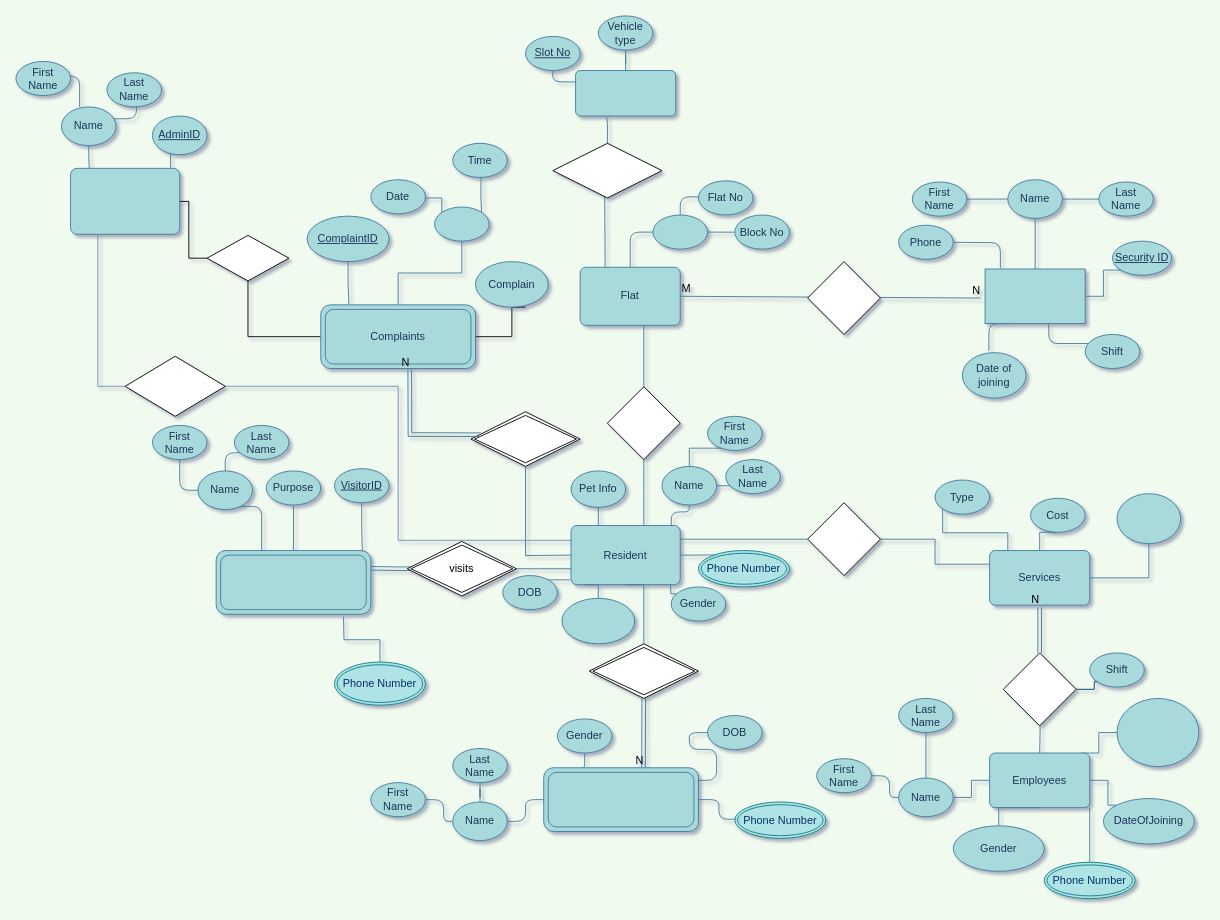
The diagram is 1220 pixels wide and 920 high, and some of its shapes have lost their labels. The centre of each missing label's shape, as x and y in pixels:
"Admin" belongs at [125,200].
"Arrival" belongs at [461,223].
"avails" belongs at [843,539].
"Dependents" belongs at [620,799].
"depends on" belongs at [643,670].
"EmployeeID" belongs at [1157,732].
"files" belongs at [525,438].
"Flatid" belongs at [680,231].
"has" belongs at [843,297].
"Has a" belongs at [607,170].
"Has Information about" belongs at [174,385].
"Manages" belongs at [247,258].
"Parking" belongs at [625,93].
"provides" belongs at [1039,689].
"resides in" belongs at [643,423].
"Security" belongs at [1034,296].
"Service ID" belongs at [1148,518].
"UID/Aadhar" belongs at [598,620].
"Visitor" belongs at [293,582].
